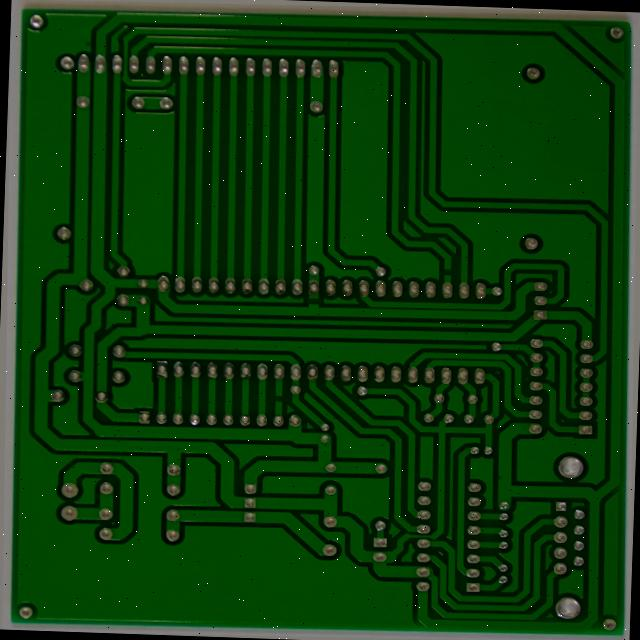open_circuit: (442, 264, 459, 280), (305, 293, 322, 307), (268, 391, 283, 405)
